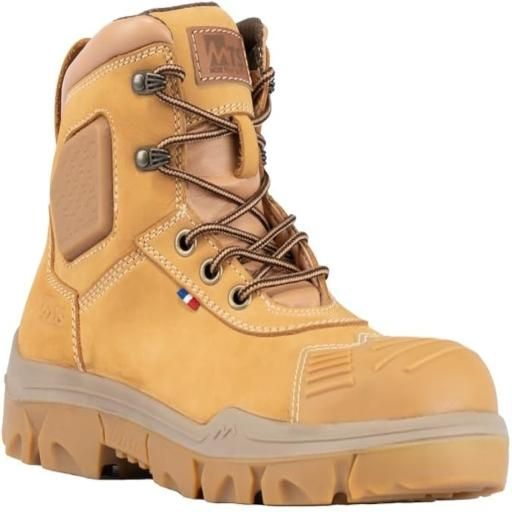safety_boots: (2, 12, 472, 486)
